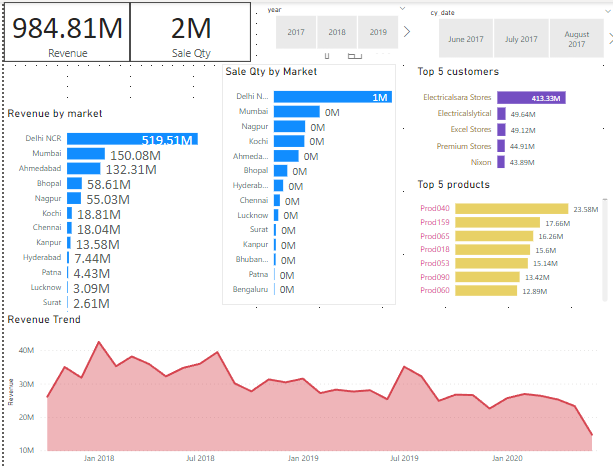

Layout of this report page (visuals, bound fields, positions):
{"tool":"powerbi","page":{"name":"Page 1","canvas":[1350,850],"ordinal":0},"visuals":[{"type":"card","fields":{"Values":["Basemeasures.Revenue"]},"box":[0,0,192,91],"z":0},{"type":"card","fields":{"Values":["Basemeasures.Sale Qty"]},"box":[192,0,184,91],"z":1000},{"type":"barChart","title":"Revenue by market","fields":{"Y":["Basemeasures.Revenue"],"Category":["sales markets.markets_name"]},"box":[0,158.5,330.7,367.2],"z":2000},{"type":"barChart","title":"Sale Qty by Market","fields":{"Y":["Basemeasures.Sale Qty"],"Category":["sales markets.markets_name"]},"box":[332,95,266,366],"z":3000},{"type":"slicer","fields":{"Values":["sales date.cy_date"]},"box":[637,4,301,87],"z":4000},{"type":"barChart","title":"Top 5 customers","fields":{"Y":["Basemeasures.Revenue"],"Category":["sales customers.custmer_name"]},"box":[624,95,283,174],"z":5000},{"type":"barChart","title":"Top 5 products","fields":{"Y":["Basemeasures.Revenue"],"Category":["sales products.product_code"]},"box":[624,266,300,195],"z":6000},{"type":"areaChart","title":"Revenue Trend","fields":{"Category":["sales date.cy_date"],"Y":["Basemeasures.Revenue"]},"box":[0,472.4,925,240.8],"z":7000},{"type":"slicer","fields":{"Values":["sales date.year"]},"box":[388,0,236,78],"z":8000}]}

Visuals, with their boxes on the page's 1350x850 design canvas (x1, y1, x2, y2). These are canvas units, not pixel positions in the 613x468 screenshot, which may show the page scaled, cropped or inside an application window:
card - Basemeasures.Revenue: BBox(0, 0, 192, 91)
card - Basemeasures.Sale Qty: BBox(192, 0, 376, 91)
"Revenue by market" barChart: BBox(0, 158, 331, 526)
"Sale Qty by Market" barChart: BBox(332, 95, 598, 461)
slicer - sales date.cy_date: BBox(637, 4, 938, 91)
"Top 5 customers" barChart: BBox(624, 95, 907, 269)
"Top 5 products" barChart: BBox(624, 266, 924, 461)
"Revenue Trend" areaChart: BBox(0, 472, 925, 713)
slicer - sales date.year: BBox(388, 0, 624, 78)
